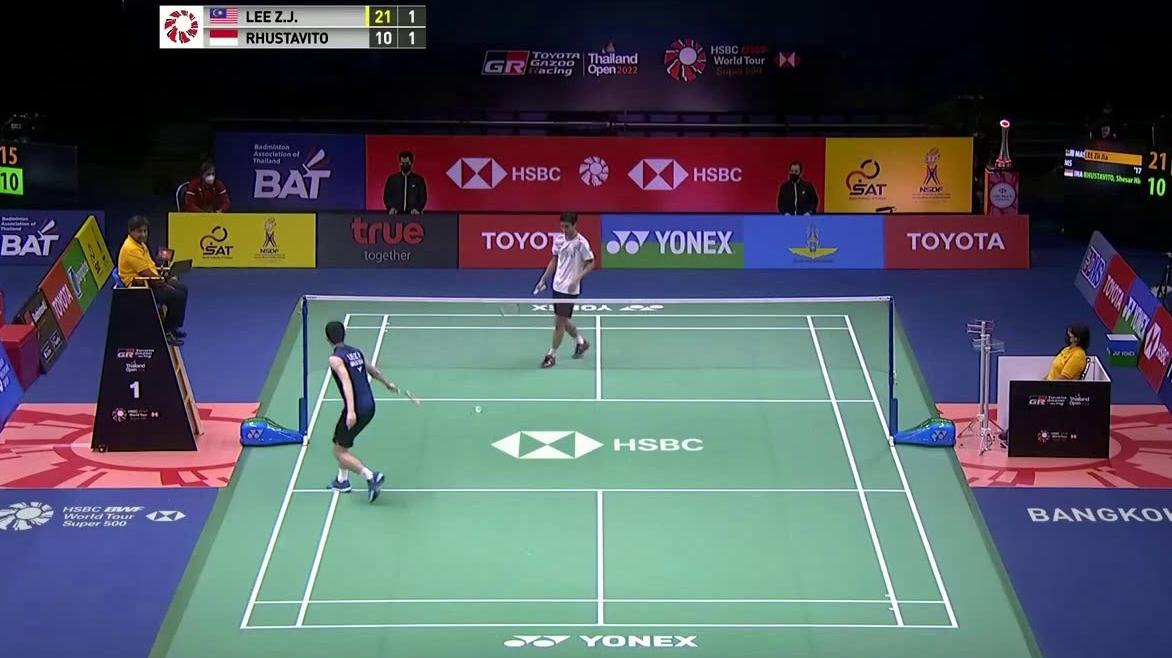racket: (499, 284, 547, 316), (390, 389, 423, 406)
shuttle: (475, 405, 483, 413)
